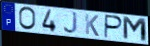4: (41, 9, 58, 33)
J: (63, 12, 79, 35)
K: (84, 13, 100, 38)
M: (122, 16, 149, 44)
O: (18, 6, 37, 31)
P: (103, 14, 125, 40)
